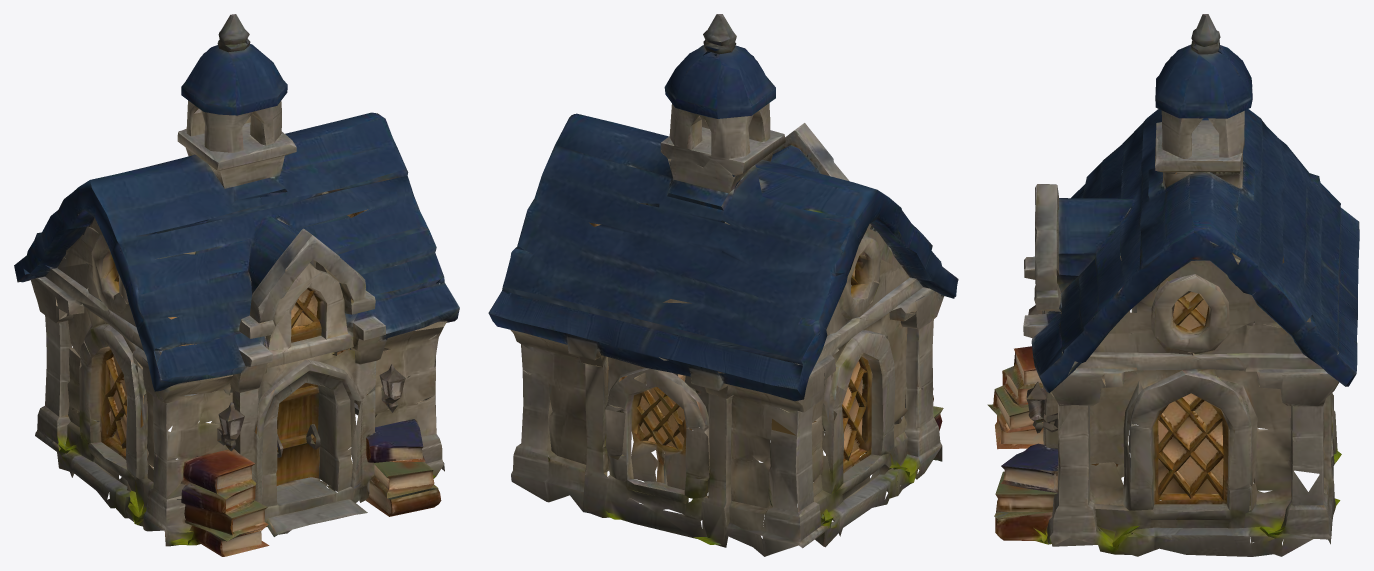
The model's file is library.glb.
3 renders of one model, left to right at view 1: azimuth 30°, elevation 25°; view 2: azimuth 150°, elevation 25°; view 3: azimuth 270°, elevation 25°, orthographic. The views are drawn at different scales.
Visible parts, largest first — view 1: library; view 2: library; view 3: library.
Part boxes in pixels (<box>): library: <box>14,14,459,556</box>; library: <box>488,14,958,556</box>; library: <box>987,14,1359,556</box>.
Bounding box in the file's own units: 1.25 × 1.77 × 1.27.
Materials: 1 (1 with a texture image).
